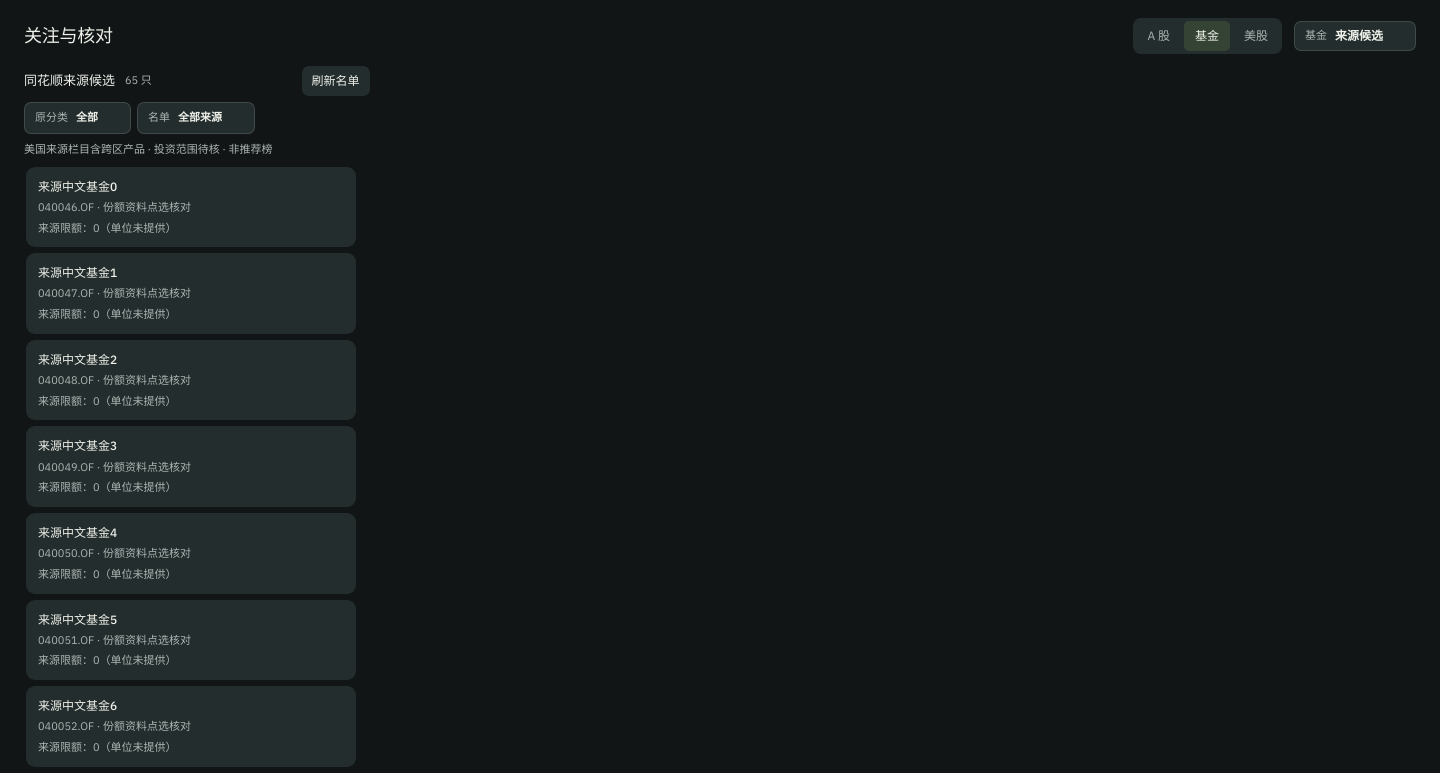
Test case: 基金来源候选与按需详情 › 原子类切换只消费同批数据，保留未知nazhi标签；键盘焦点返回
Expected: the text "来源中文基金0" is shown, [38,179,117,194]
Press ArrowDown in the button with aria-label "原分类：全部", box [24,102,131,134]
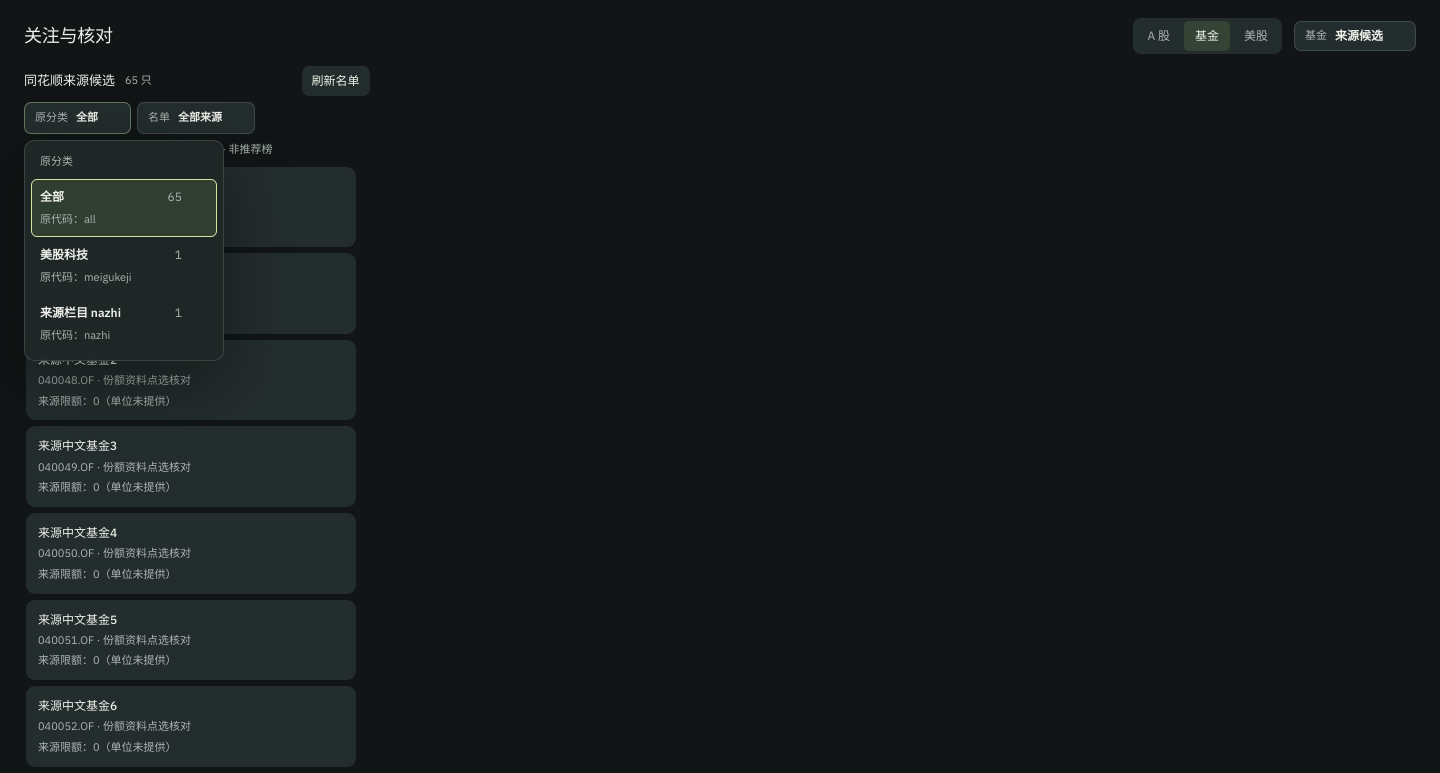
Click the menu item "美股科技 原代码：meigukeji 1". click: (64,255)
box: [40,247,182,284]
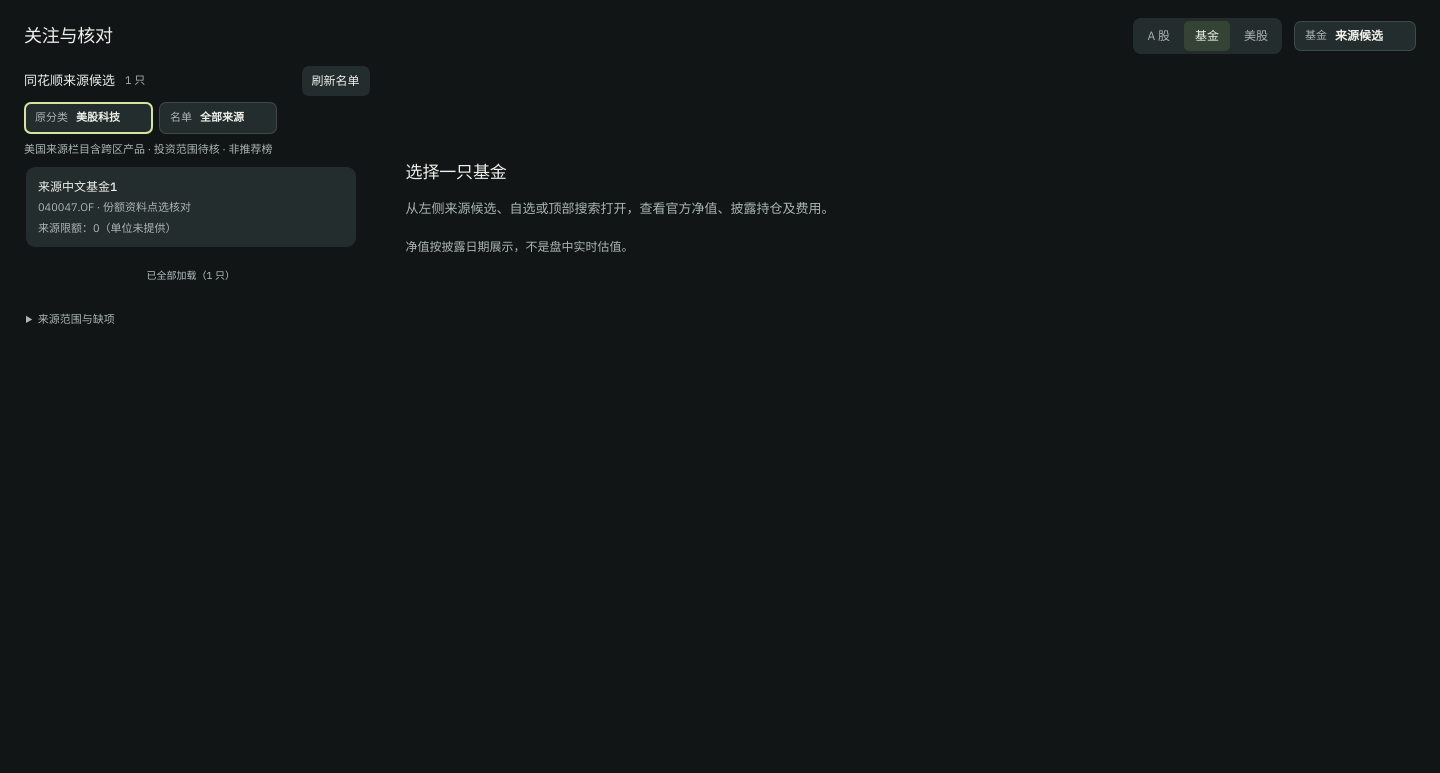
Expected: the text "来源中文基金1" is shown, [38,179,117,194]
Result: the menu is gone
Result: the button "来源中文基金0" is gone
Press ArrowDown in the button with aria-label "原分类：美股科技", box [24,102,153,134]
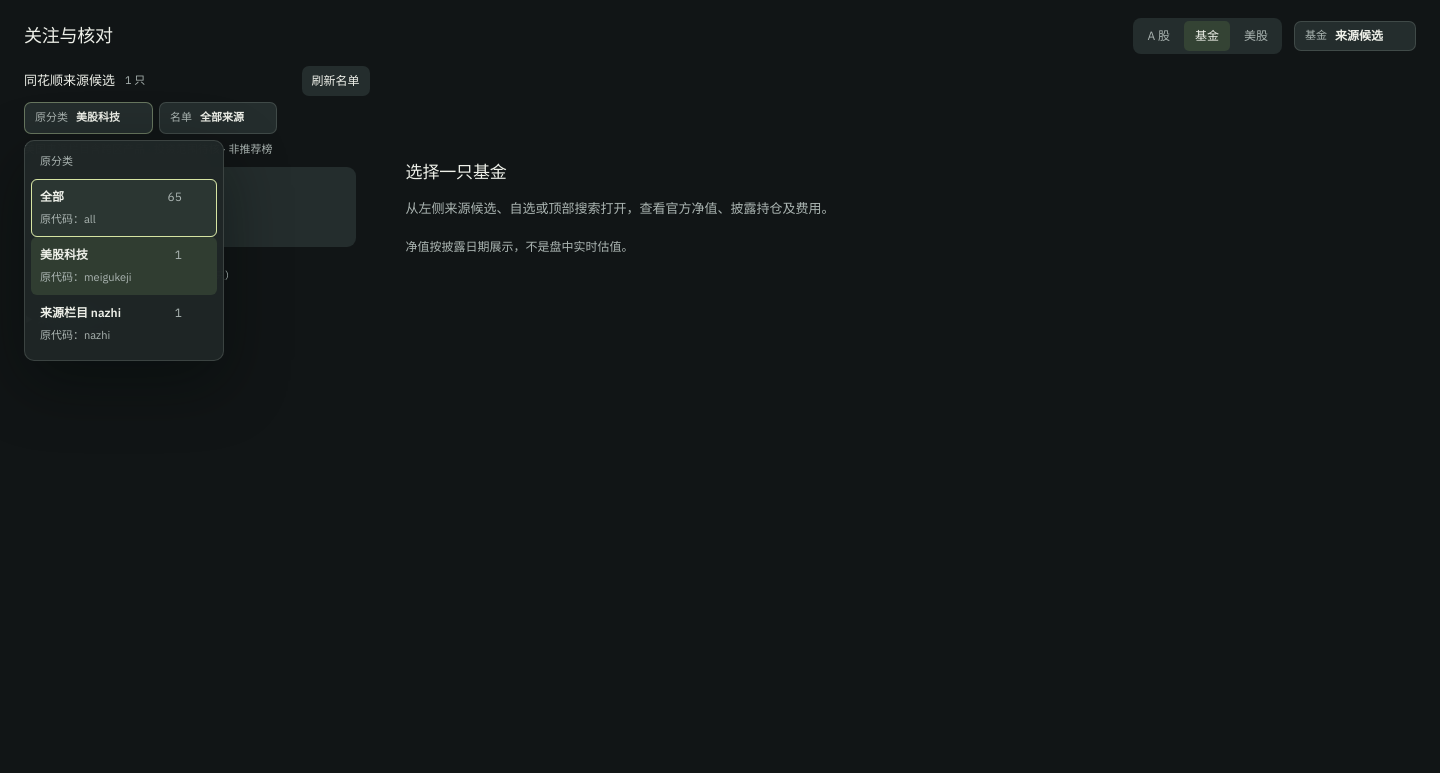
Click the menu item "来源栏目 nazhi 原代码：nazhi 1". click: (80,313)
box: [40,305,182,342]
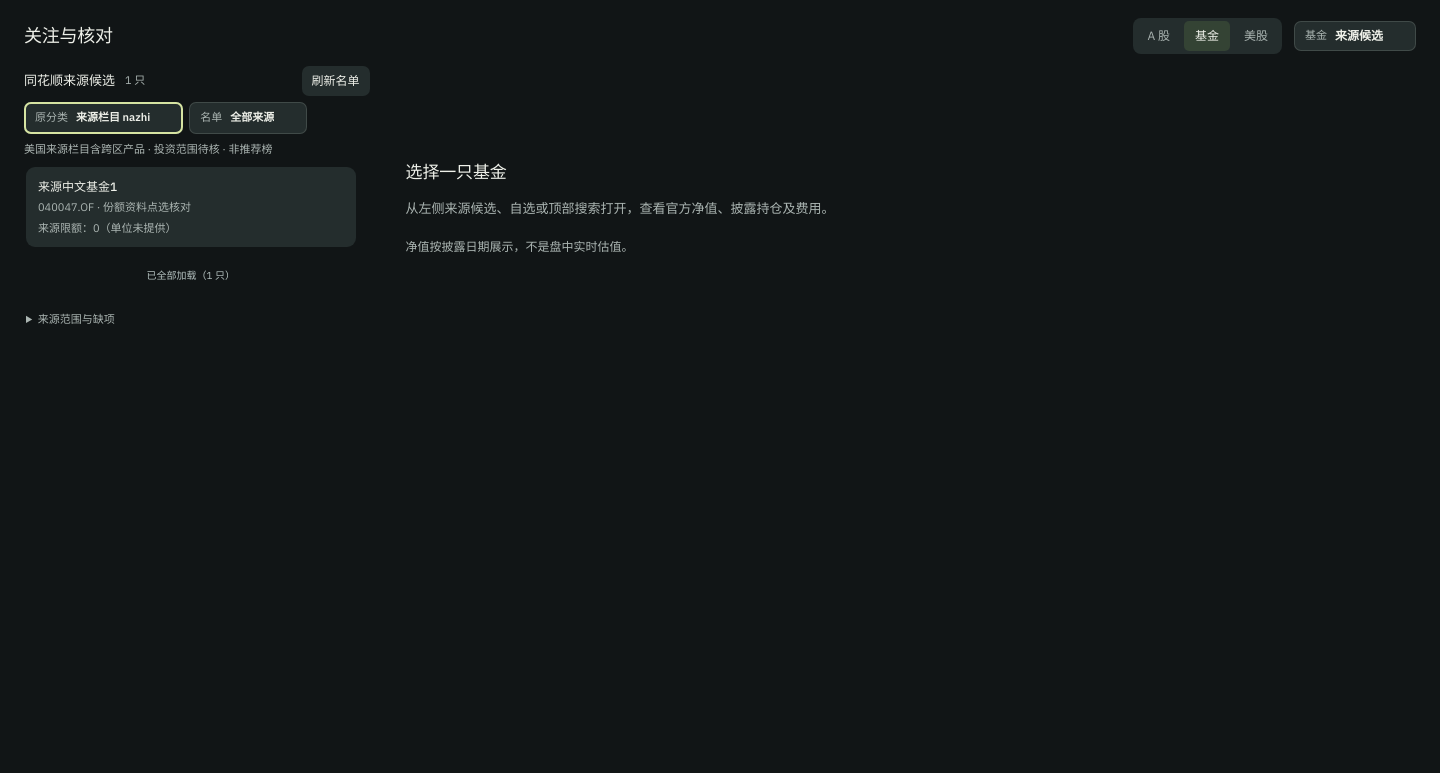
Result: the menu is gone
Result: the button with aria-label "原分类：来源栏目 nazhi" is shown at [24,102,183,134]
